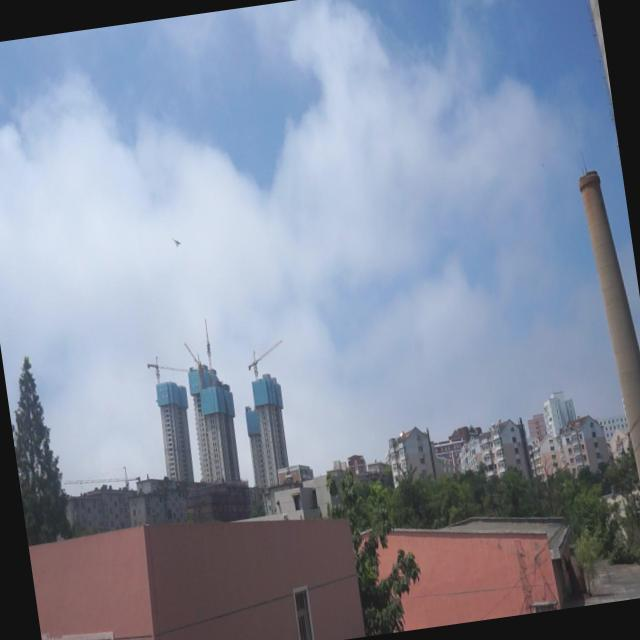drone: (171, 234, 184, 252)
